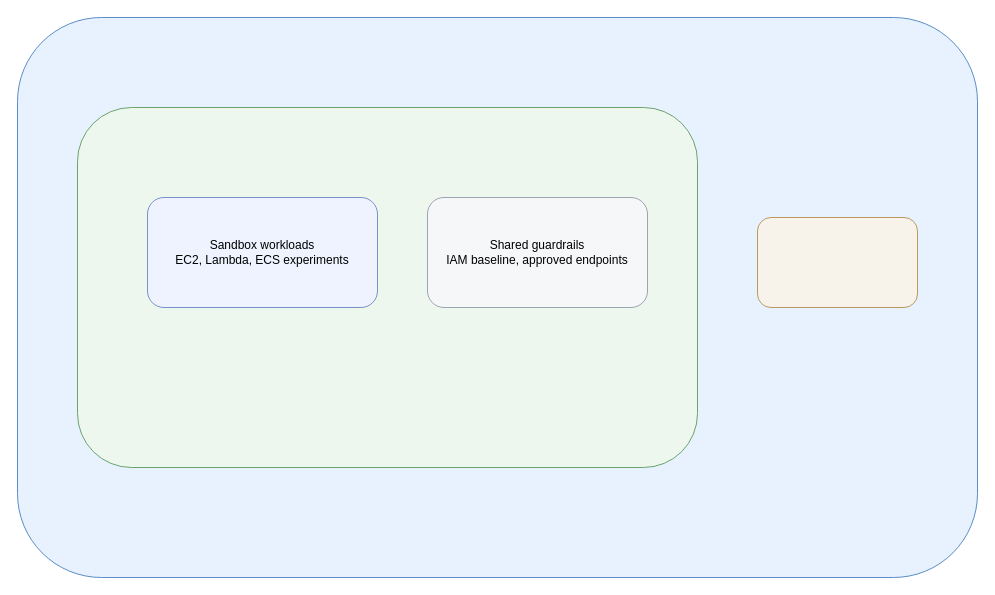
The diagram is 995 pixels wide and 595 high, and some of its shapes have lost their labels. The shapes that lost their labels are listed below. From the top down, each one's box as (x1, y1, x2, y2) in pixels, then its label:
(756, 216, 918, 308): Shared Engineering Account
(76, 106, 698, 468): VPC: vpc-workbench-sandbox Region: ap-northeast-1
